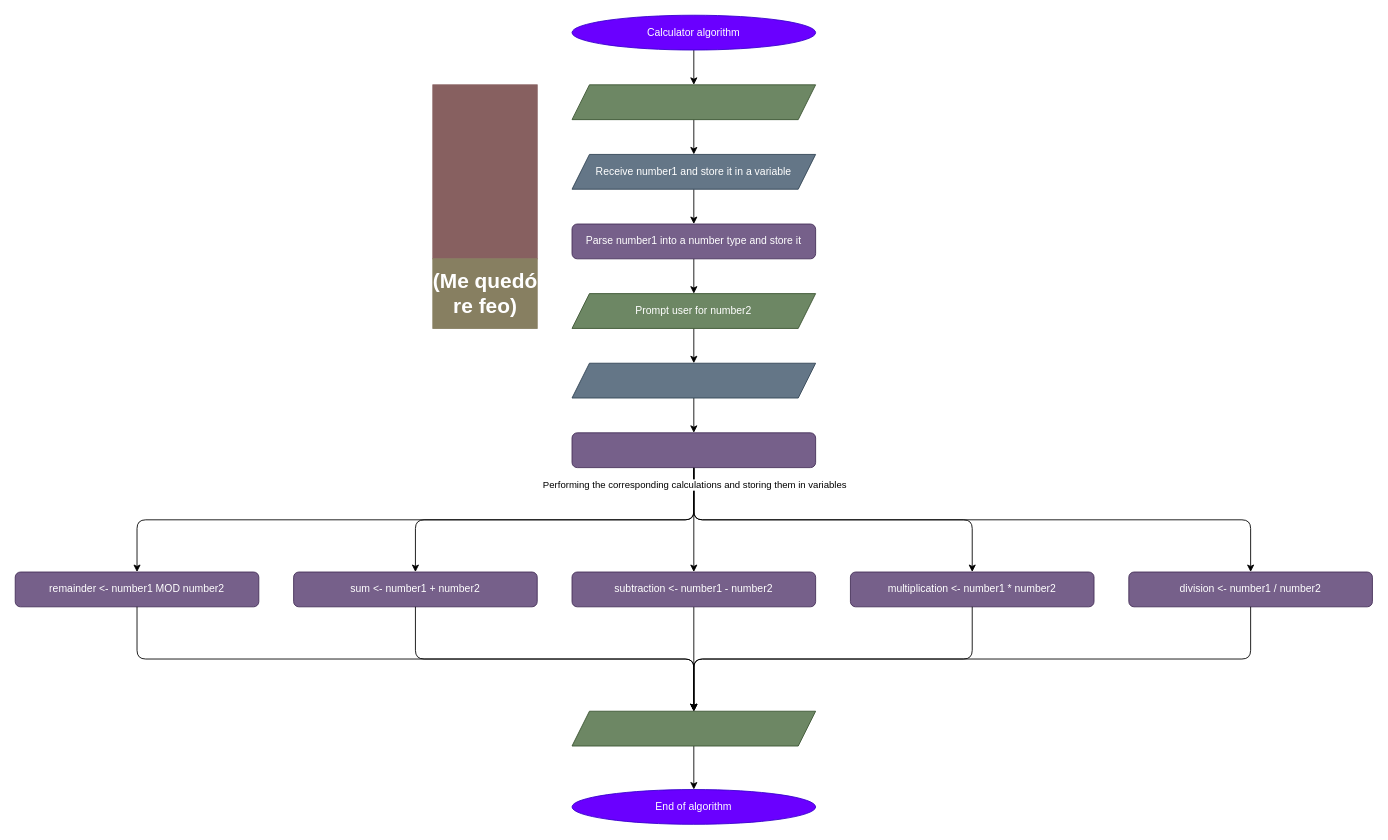
Some shapes in this 1388 by 840 pixel diagram are drawn without their labels. The box of each missing label's shape, as (x1, y1, x2, y2) in pixels:
Parse number2 into a number type and store it: (571, 432, 816, 468)
Print the results of all 5 calculations with indicative text: (571, 710, 816, 746)
Prompt user for number1: (571, 84, 816, 120)
Receive number2 and store it in a variable: (571, 362, 816, 398)
Trate de dibujar acorde al código que yo hice: (432, 84, 537, 259)
